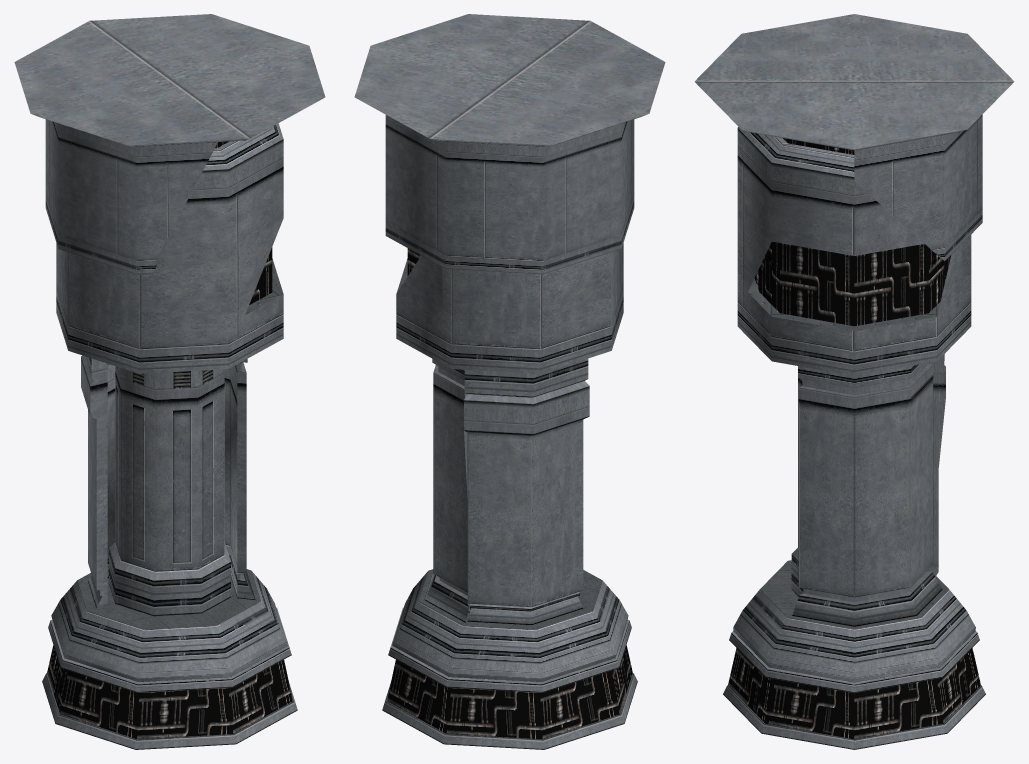
The model's file is poi_all_impl_bunker_pillar_s03_l0.fbx.
3 renders of one model, left to right at view 1: azimuth 30°, elevation 25°; view 2: azimuth 150°, elevation 25°; view 3: azimuth 270°, elevation 25°, orthographic.
Visible parts, largest first — view 1: mesh_node; view 2: mesh_node; view 3: mesh_node.
Boxes of the visible parts, left/top/right/bottom form: mesh_node: left=14, top=14, right=325, bottom=749; mesh_node: left=354, top=14, right=665, bottom=749; mesh_node: left=694, top=14, right=1014, bottom=749.
Bounding box in the file's own units: 2.51 × 5.3 × 2.51.
